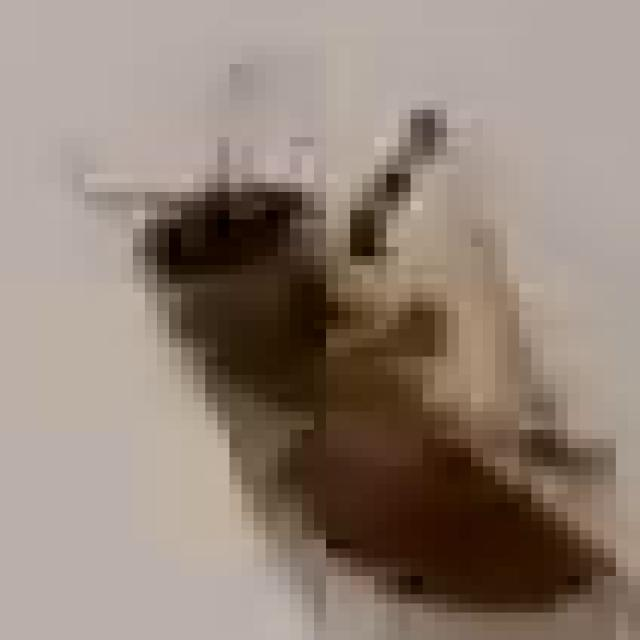honeybee: (67, 131, 616, 608)
